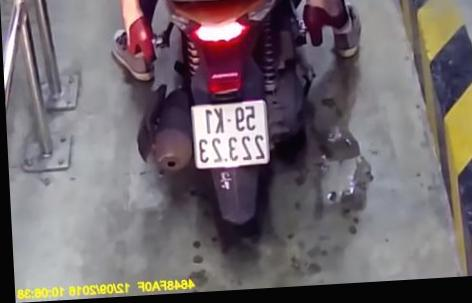License_Plate: (186, 95, 278, 174)
